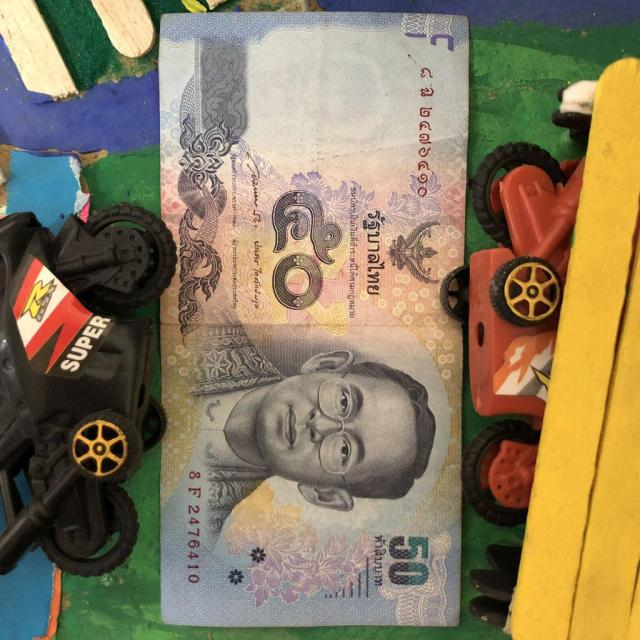THAI50: (159, 12, 468, 626)
